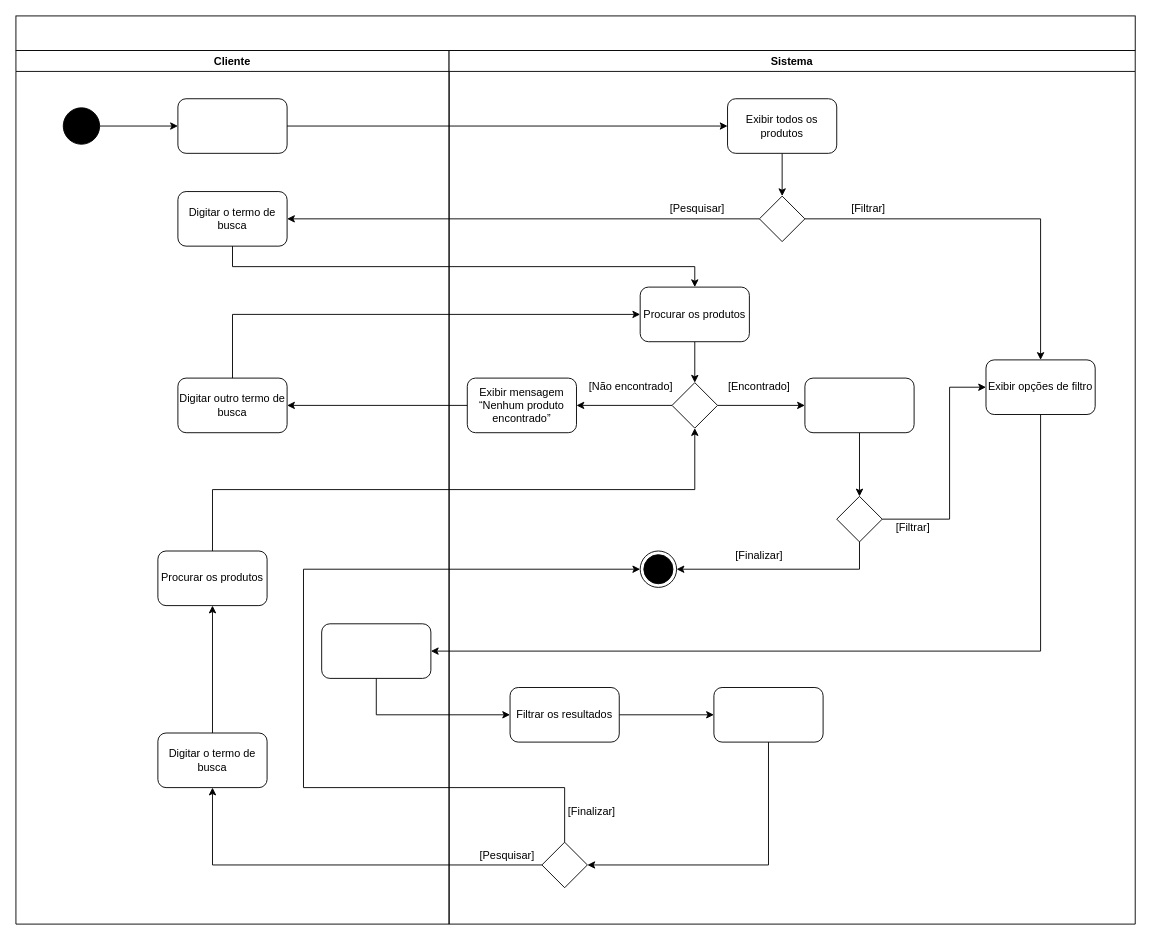
The diagram is 1151 pixels wide and 940 high, and some of its shapes have lost their labels. Each missing label, with the centre of its shape:
"Acessar a página de catálogo" goes at [232,125].
"Diagrama de Atividade: Pesquisar Produto" goes at [575,33].
"Exibir a lista filtrada" goes at [768,714].
"Exibir os resultados da busca" goes at [859,405].
"Selecionar os filtros desejados" goes at [376,650].
